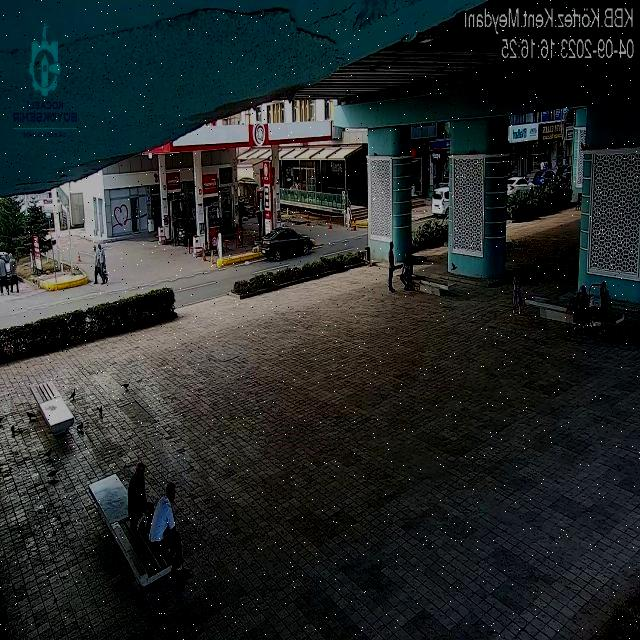Car: (258, 228, 314, 261), (506, 176, 536, 197), (532, 168, 560, 187)
Van: (432, 187, 451, 219)
